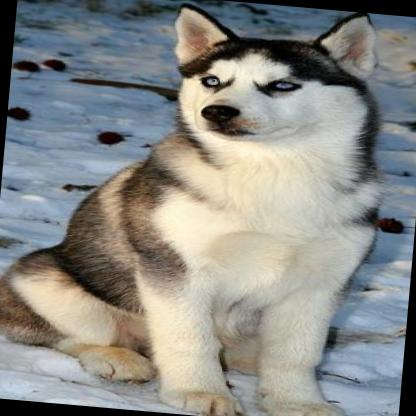Siberian_husky: (0, 0, 393, 416)
